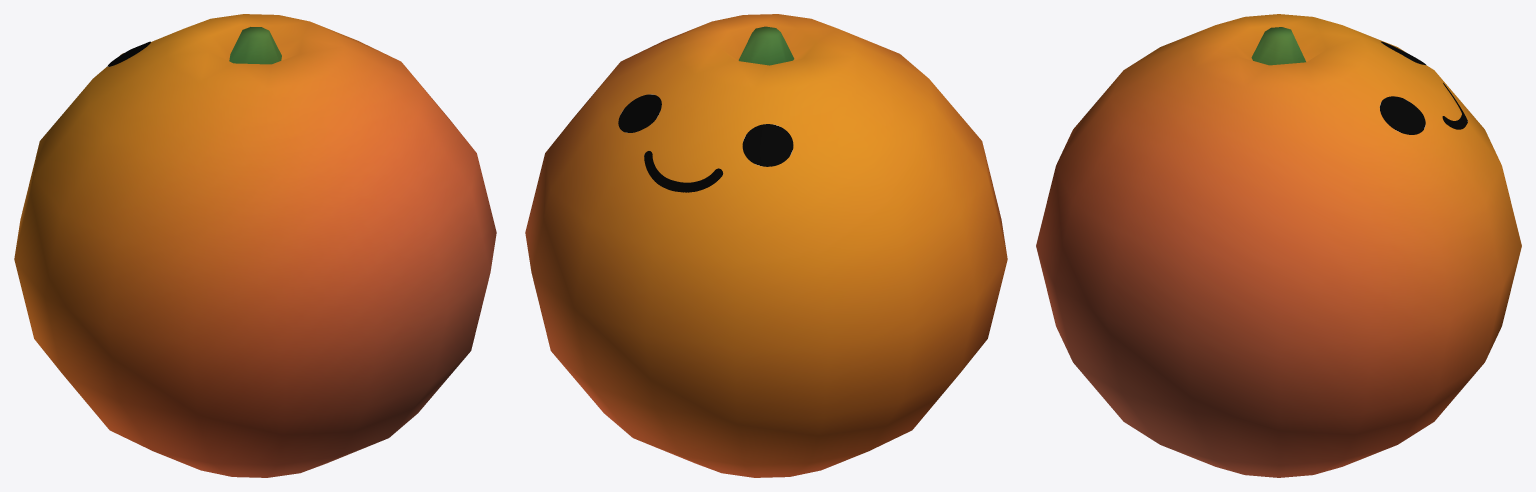
The model's file is orange_smile.fbx.
The picture shows the model from 3 angles, left to right: view 1: azimuth 30°, elevation 25°; view 2: azimuth 150°, elevation 25°; view 3: azimuth 270°, elevation 25°; orthographic projection.
Parts seen in each view (by area): view 1: orange; view 2: orange; view 3: orange.
Boxes of the visible parts, <box> form: orange: <box>14,14,496,477</box>; orange: <box>525,14,1007,477</box>; orange: <box>1036,14,1521,477</box>.
Bounding box in the file's own units: 44.9 × 44.9 × 43.14.
